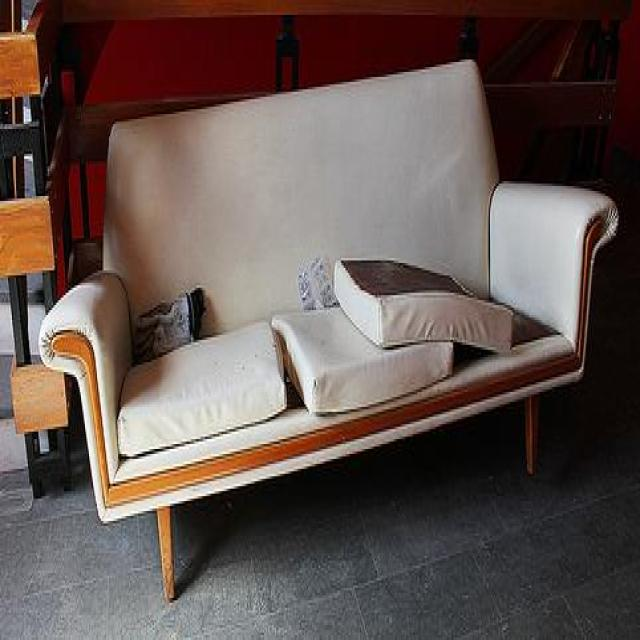sofa: (37, 55, 619, 600)
